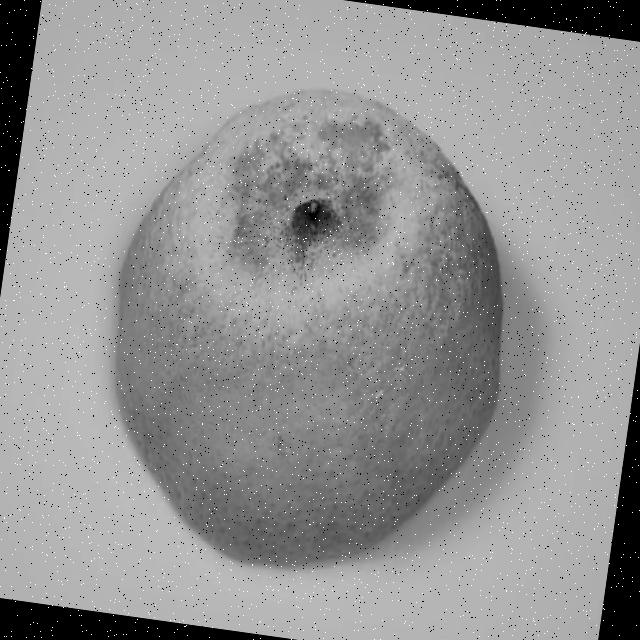Rotten: (80, 58, 538, 594)
